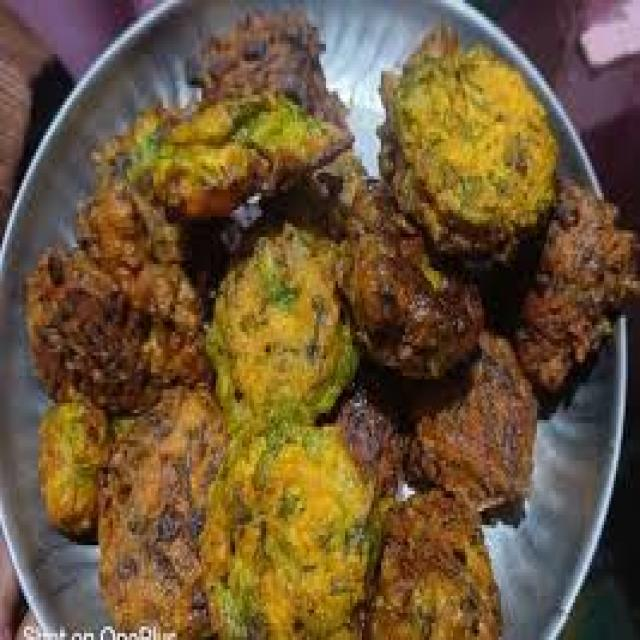BAJI: (39, 13, 638, 637)
